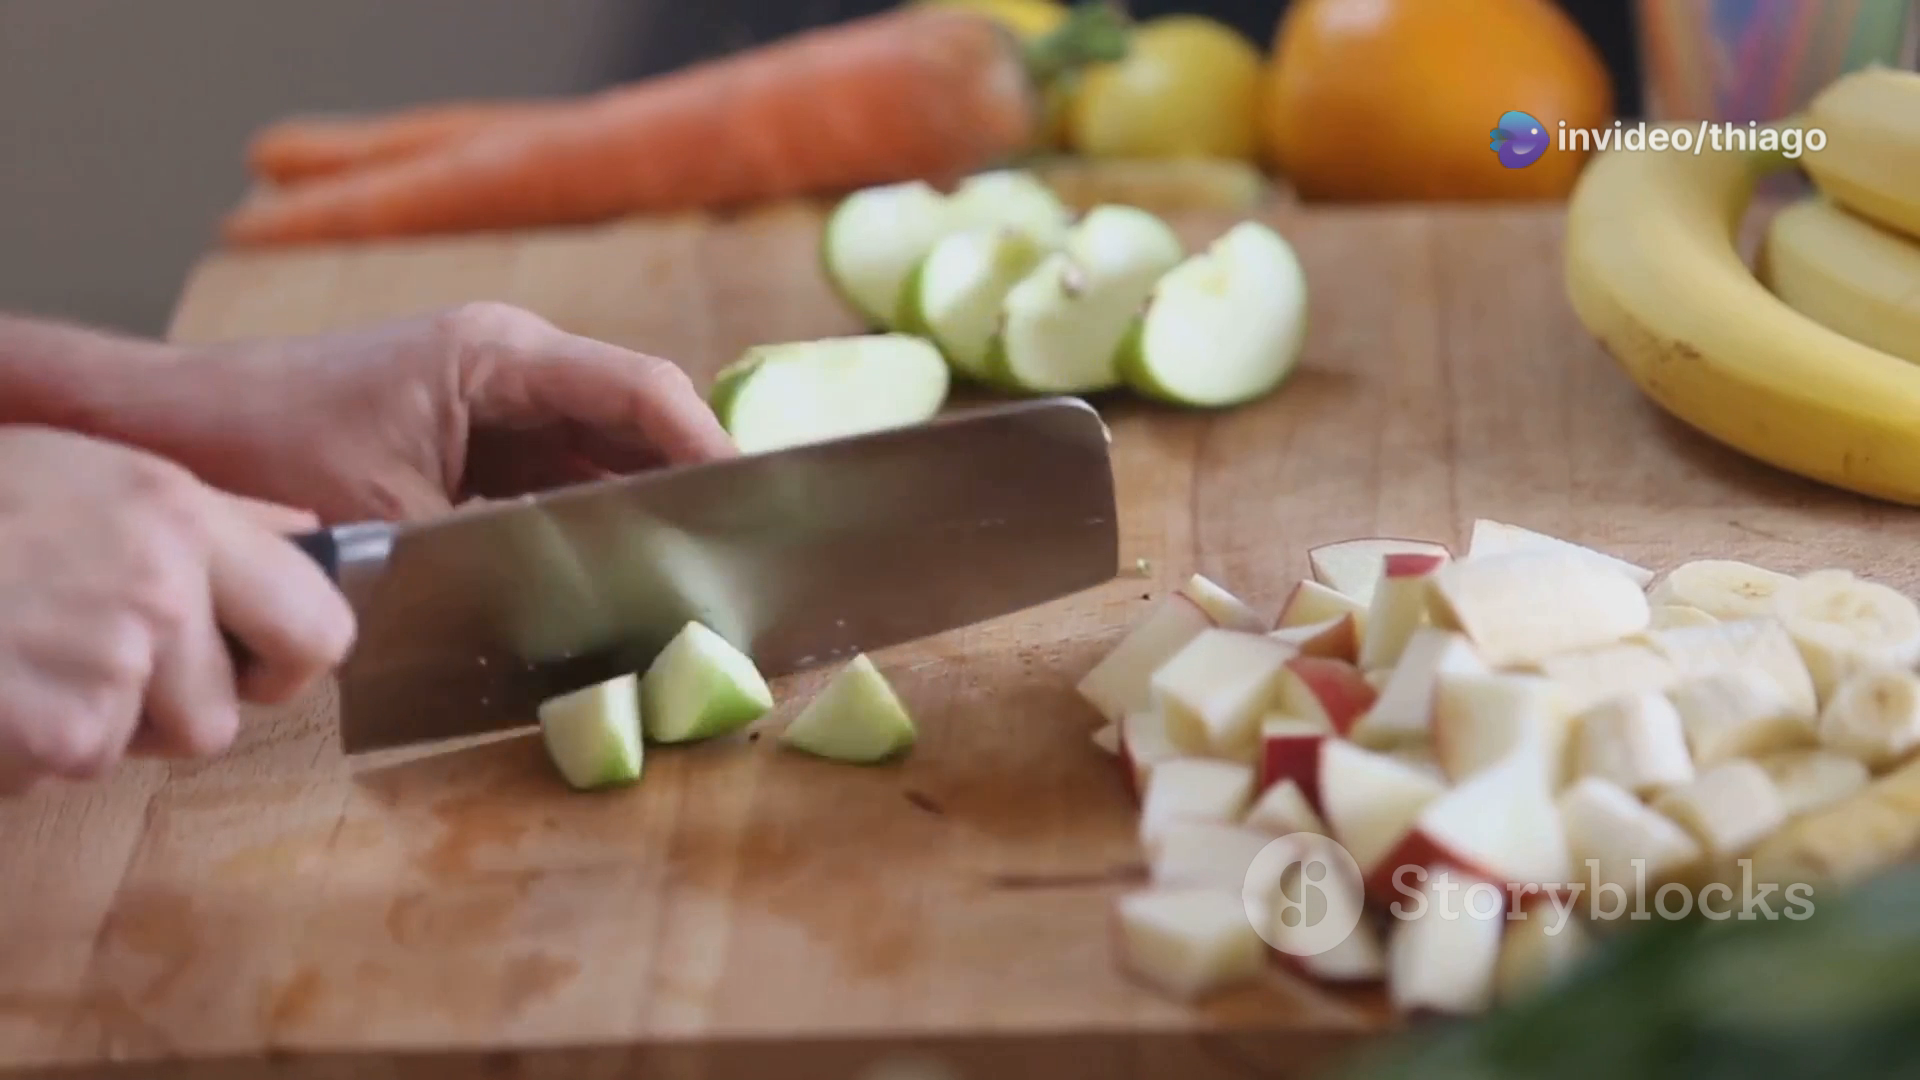cortante: (322, 396, 1120, 753)
